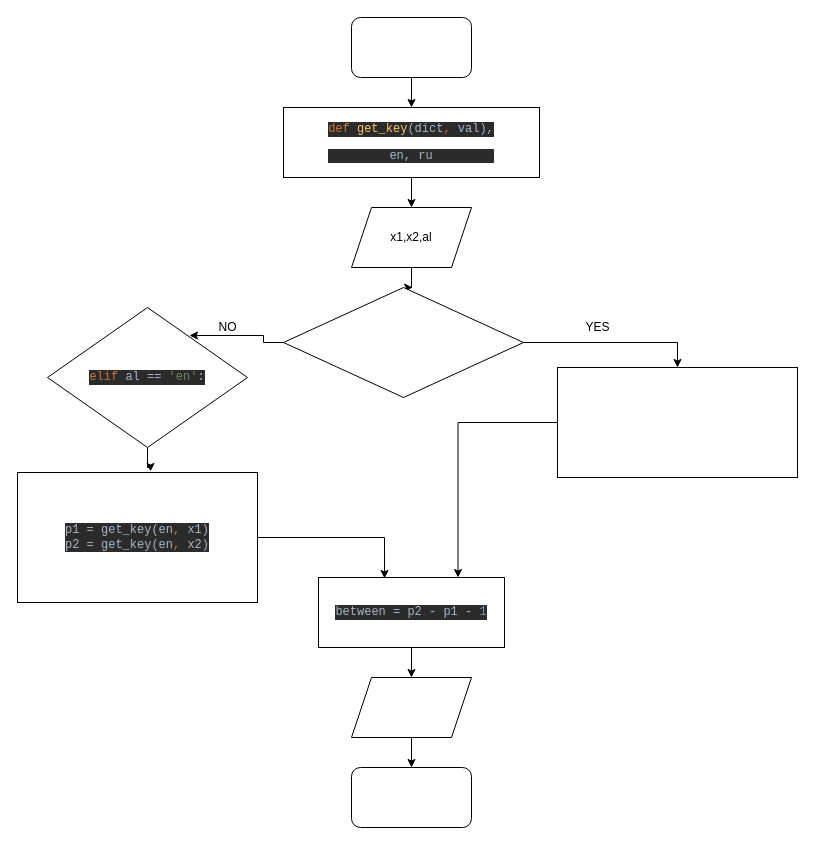
The diagram is 815 pixels wide and 845 high, and some of its shapes have lost their labels. Each missing label, with the centre of its shape:
"if al == 'ru' :" goes at pixel 403 342.
"p1 = get_key(ru , x1) p2 = get_key(ru , x2)" goes at pixel 677 422.
"print" goes at pixel 411 707.
